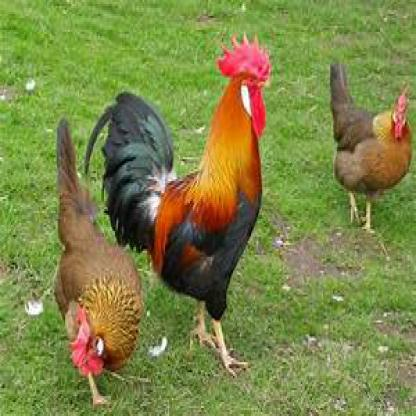chicken: (92, 32, 274, 374), (54, 119, 151, 404), (327, 60, 413, 235)
